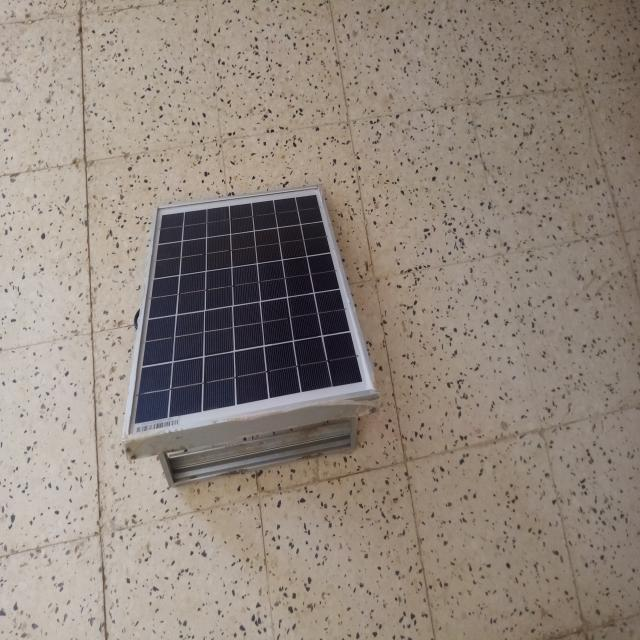no faulty: (129, 193, 380, 435)
